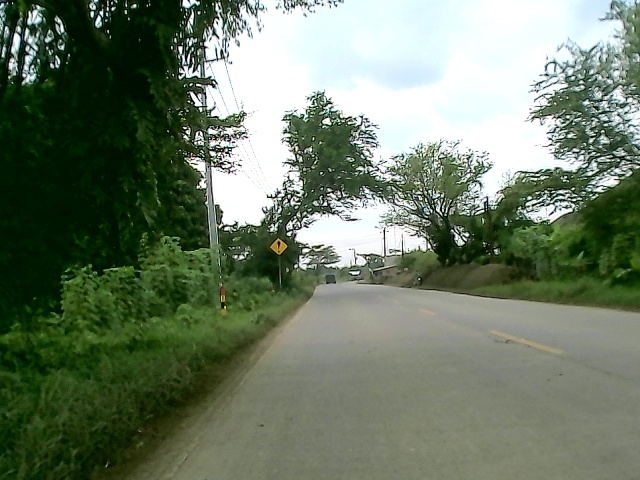Hati-hati: (268, 237, 287, 258)
